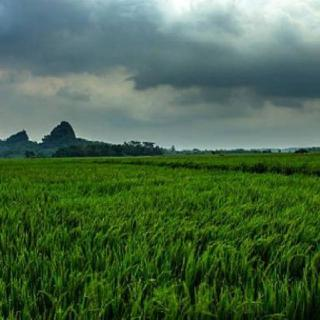Altocumulus: (0, 0, 320, 124)
